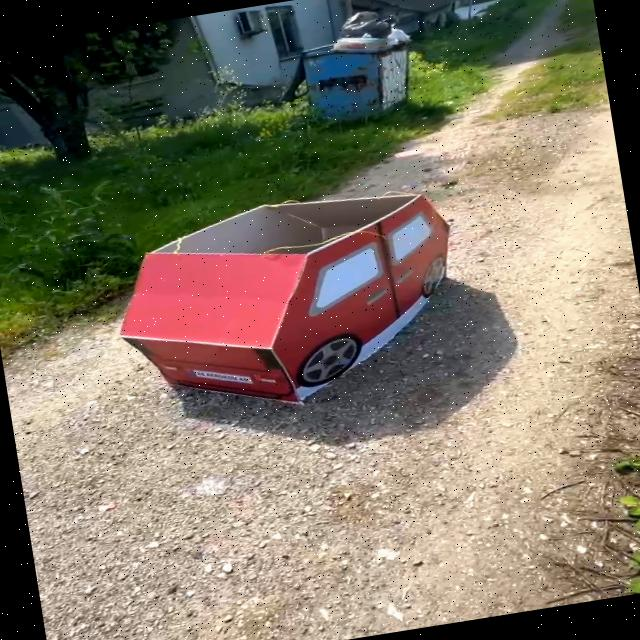red_car: (46, 151, 501, 445)
